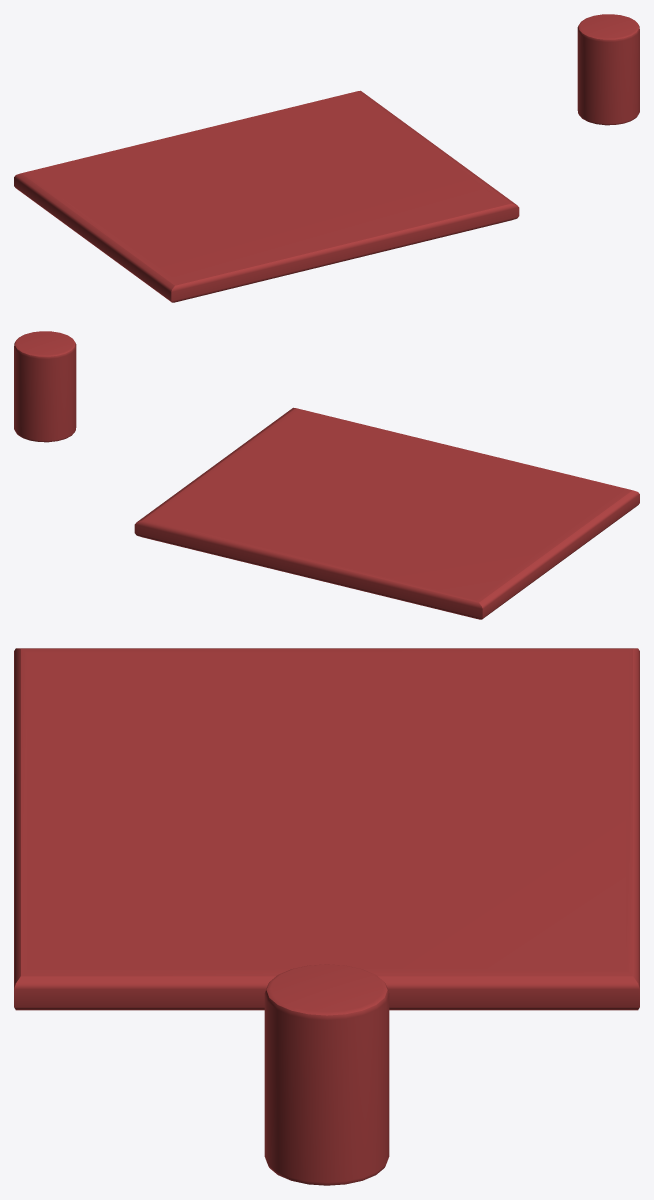
The model's file is AHDE_Barrel_Platform_V2.fbx.
The picture shows the model from 3 angles, top to bottom: view 1: azimuth 30°, elevation 25°; view 2: azimuth 150°, elevation 25°; view 3: azimuth 270°, elevation 25°; orthographic projection. The views are drawn at different scales.
Parts seen in each view (by area): view 1: MovingPlatform1, Barrel1; view 2: MovingPlatform1, Barrel1; view 3: MovingPlatform1, Barrel1.
Part boxes in pixels (x1,y1,x2,y2): MovingPlatform1: (14, 90, 519, 302); Barrel1: (577, 14, 639, 125); MovingPlatform1: (134, 407, 639, 619); Barrel1: (14, 331, 76, 442); MovingPlatform1: (14, 648, 639, 1010); Barrel1: (264, 964, 389, 1185).
Size of the model in its own units: 1187 by 200 by 595.
